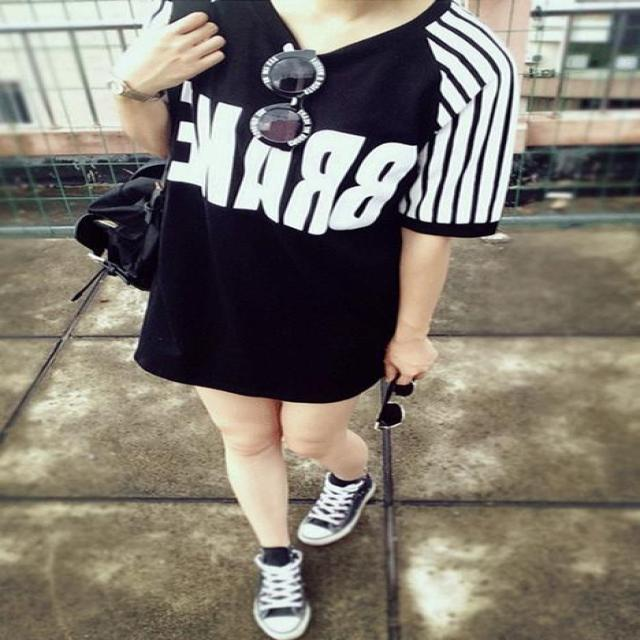short sleeve dress: (137, 3, 514, 397)
